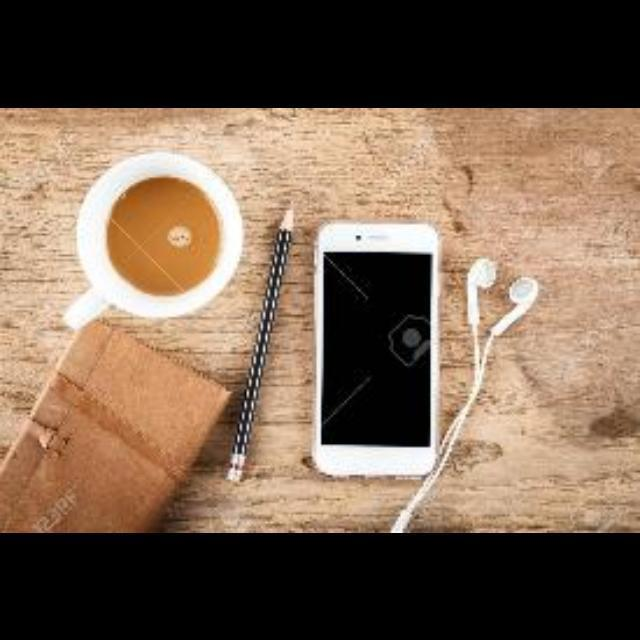phone: (314, 237, 438, 471)
